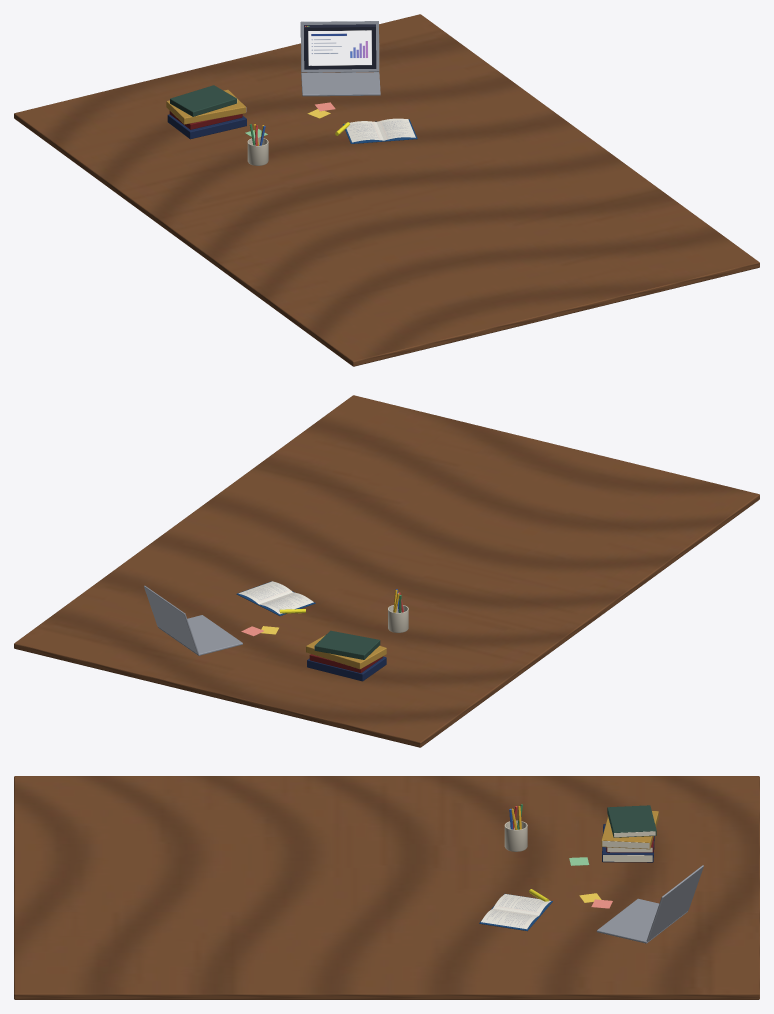
The model's file is desk.glb.
3 views of the same model, one above another, from view 1: azimuth 30°, elevation 25°; view 2: azimuth 150°, elevation 25°; view 3: azimuth 270°, elevation 25° (orthographic). The views are drawn at different scales.
Parts seen in each view (by area): view 1: desk-top, laptop-display, laptop-base, book-3, laptop-lid, book-2, book-0, notebook-page-1, notebook-page--1; view 2: desk-top, laptop-lid, laptop-base, book-3, book-2, book-0, notebook-page-1, notebook-page--1; view 3: desk-top, laptop-base, laptop-lid, book-3, notebook-page--1, notebook-page-1, pencil-cup, book-2.
Boxes of the visible parts, x1,y1,x2,y2 form: desk-top: (14, 14, 759, 366); laptop-display: (304, 24, 376, 69); laptop-base: (301, 72, 380, 96); book-3: (170, 85, 236, 116); laptop-lid: (300, 21, 379, 72); book-2: (166, 89, 245, 124); book-0: (167, 114, 246, 139); notebook-page-1: (376, 118, 415, 140); notebook-page--1: (346, 121, 383, 142); desk-top: (14, 395, 759, 747); laptop-lid: (144, 585, 198, 654); laptop-base: (158, 615, 242, 655); book-3: (314, 630, 380, 659); book-2: (306, 635, 386, 669); book-0: (307, 656, 386, 681); notebook-page-1: (238, 581, 292, 604); notebook-page--1: (259, 592, 313, 614); desk-top: (14, 776, 759, 999); laptop-base: (596, 898, 687, 943); laptop-lid: (646, 865, 703, 941); book-3: (607, 805, 656, 837); notebook-page--1: (493, 894, 550, 915); notebook-page-1: (481, 908, 538, 929); pencil-cup: (504, 820, 527, 851); book-2: (601, 811, 658, 849).
Bounding box in the file's own units: 9 × 1.1 × 13.
20 materials, 3 textured.
